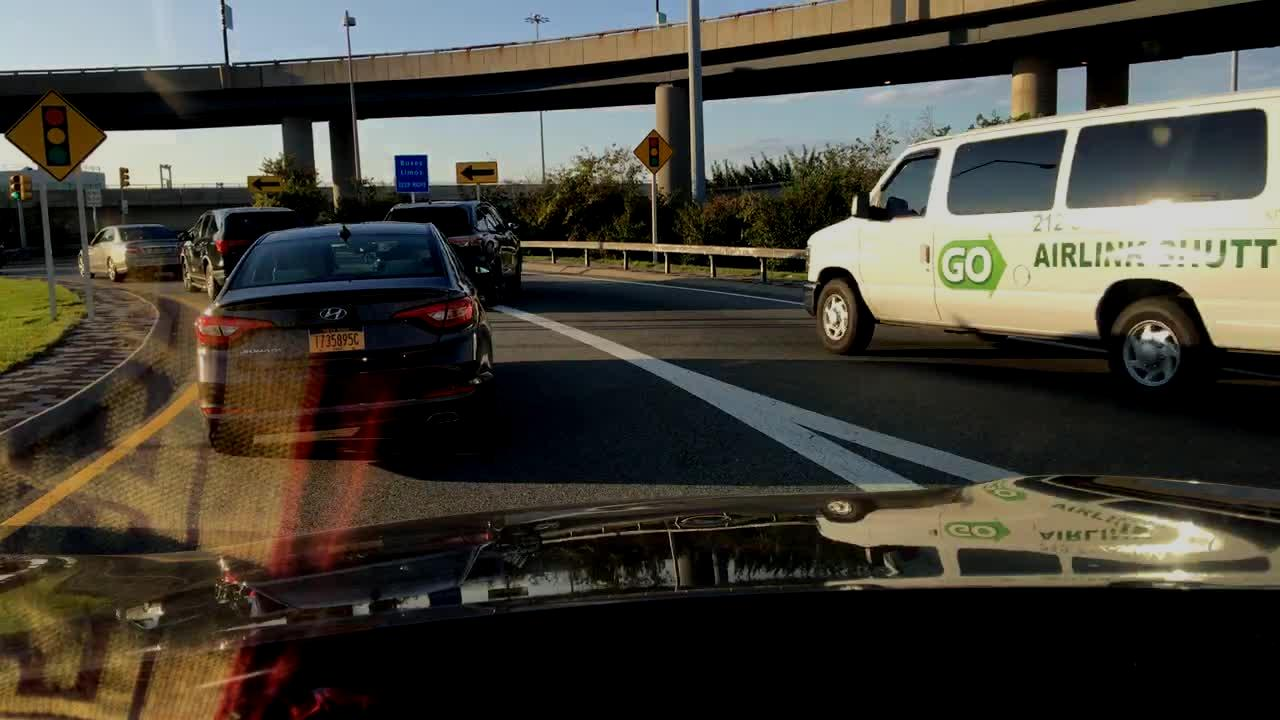Hyundai: (317, 303, 350, 328)
